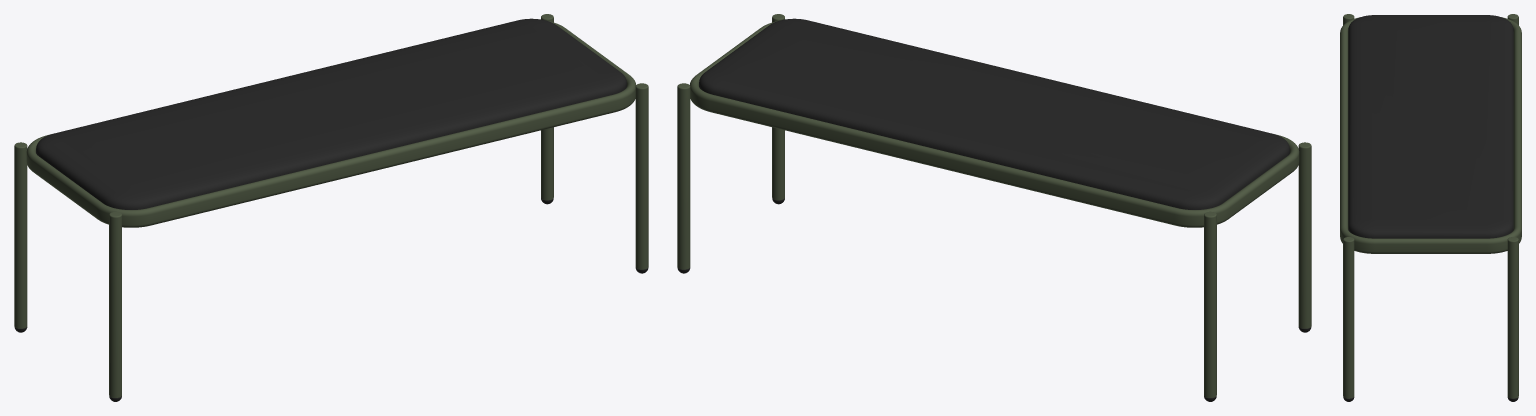
File: bench-noname-backless.glb
3 views of the same model, side by side, from view 1: azimuth 30°, elevation 25°; view 2: azimuth 150°, elevation 25°; view 3: azimuth 270°, elevation 25° (orthographic). The views are drawn at different scales.
Parts seen in each view (by area): view 1: rb_stool_noname; view 2: rb_stool_noname; view 3: rb_stool_noname.
Part boxes in pixels (box(x1,y1,x2,y2)): rb_stool_noname: box(14, 14, 648, 401); rb_stool_noname: box(677, 14, 1311, 401); rb_stool_noname: box(1340, 14, 1521, 401).
Bounding box in the file's own units: 1.33 × 0.4658 × 0.45.
